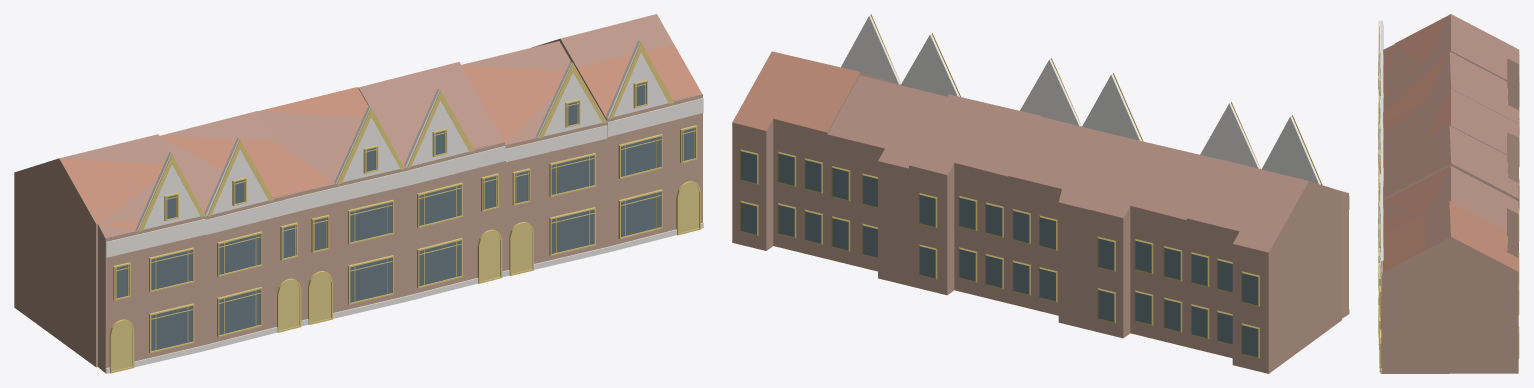
Rendered from chunk-face-zaanhof-23-34.glb.
The picture shows the model from 3 angles, left to right: view 1: azimuth 30°, elevation 25°; view 2: azimuth 150°, elevation 25°; view 3: azimuth 270°, elevation 25°; orthographic projection. The views are drawn at different scales.
Parts seen in each view (by area): view 1: face-zaanhof-23-34; view 2: face-zaanhof-23-34; view 3: face-zaanhof-23-34.
Part boxes in pixels (<box>): face-zaanhof-23-34: <box>14,14,703,373</box>; face-zaanhof-23-34: <box>732,14,1349,373</box>; face-zaanhof-23-34: <box>1378,14,1519,373</box>.
Bounding box in the file's own units: 35.56 × 11.65 × 9.59.
